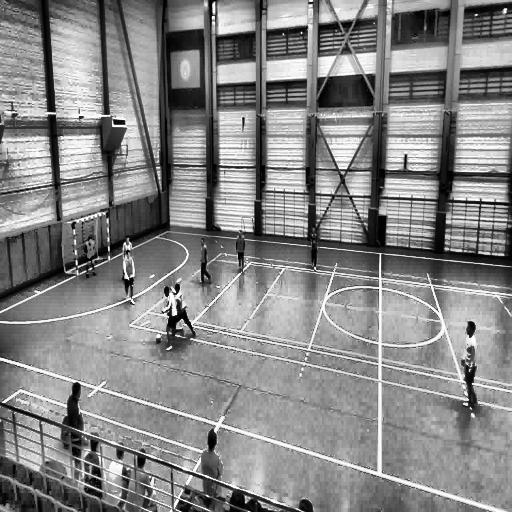ball: (156, 333, 161, 342)
player: (60, 384, 86, 482), (166, 282, 196, 344), (459, 321, 479, 408), (161, 283, 184, 354), (123, 249, 135, 304), (200, 238, 213, 284), (85, 236, 96, 278), (235, 230, 245, 272), (309, 224, 318, 270), (121, 234, 132, 260)
